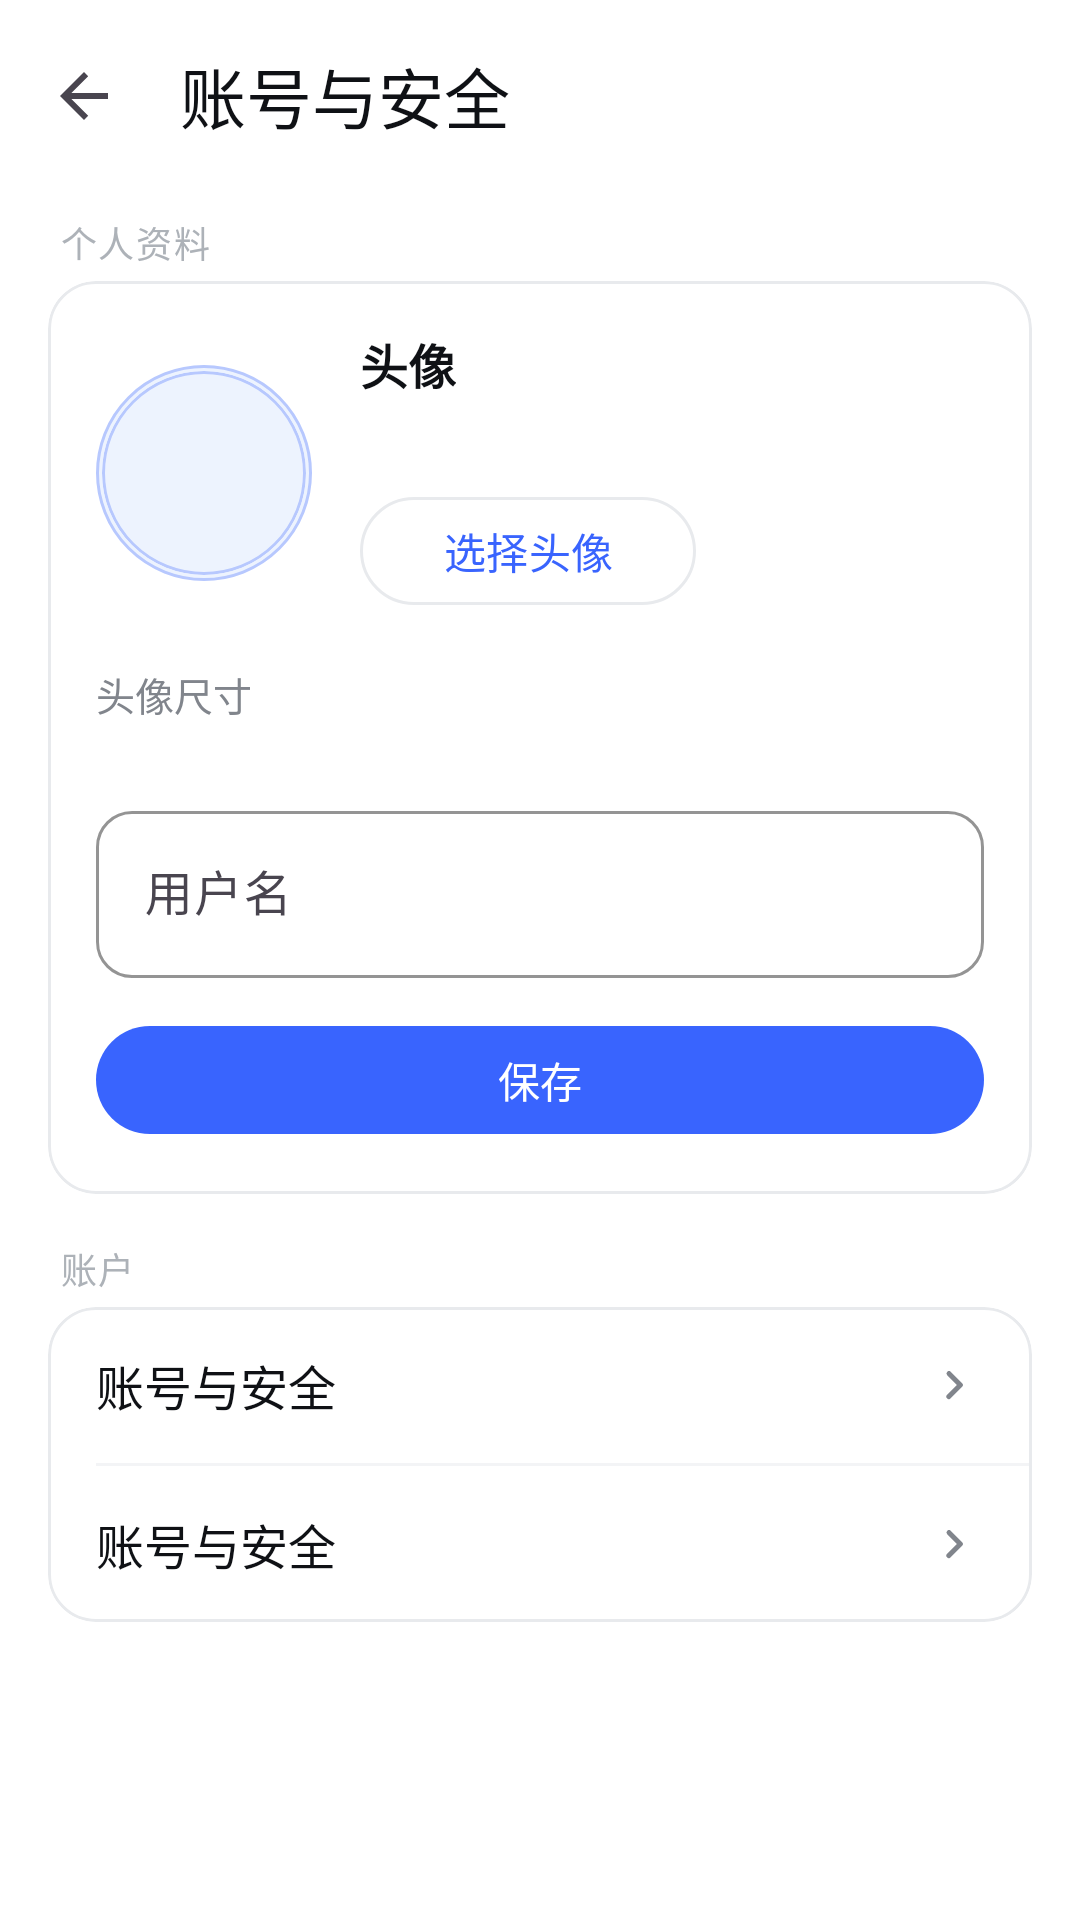

Icons on this 1080 x 1920 Android screen, each with the point to tap as [x,y]:
chevron right: [954,1385], [954,1544]
